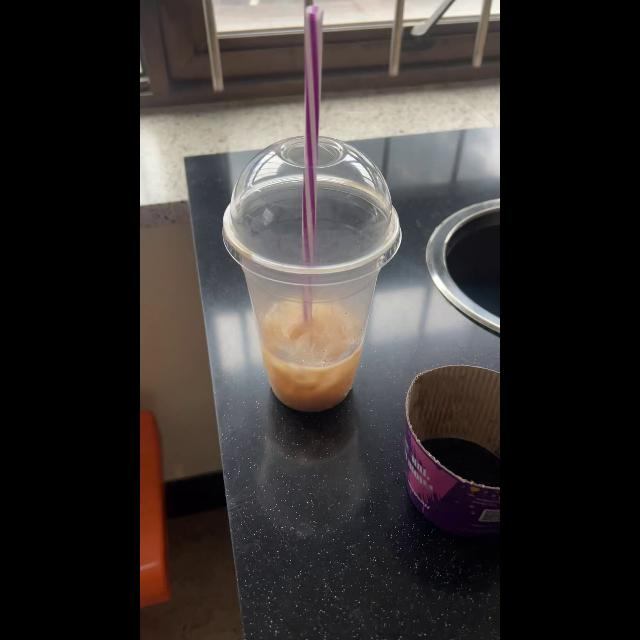dirty: (227, 225, 391, 420)
